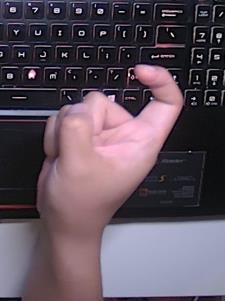anticlockwise: (29, 59, 189, 224)
